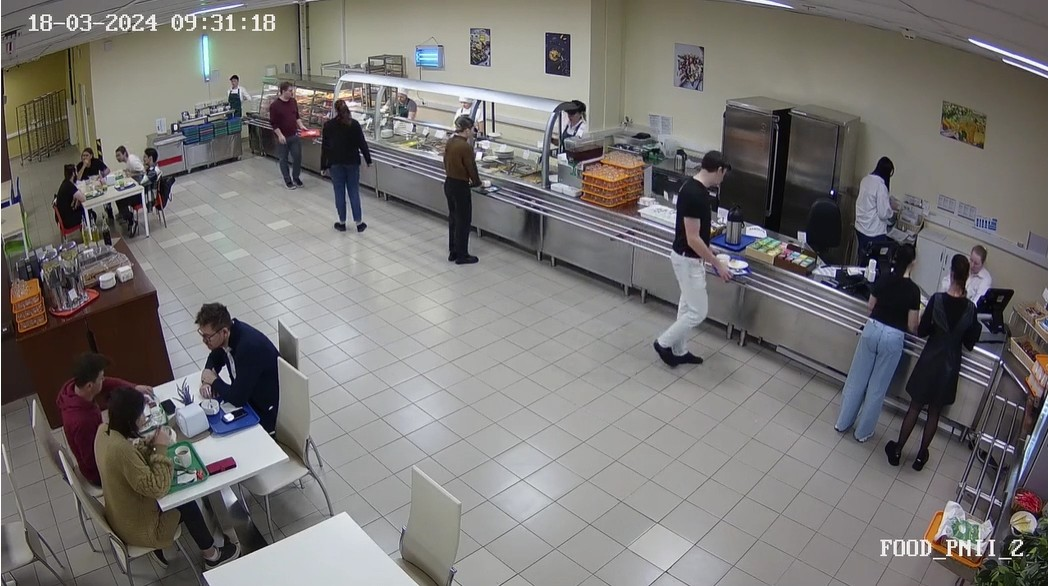Na_Kasse: (830, 253, 1004, 481), (773, 240, 943, 450)
Personal: (850, 152, 892, 269), (550, 86, 593, 162), (216, 74, 255, 136), (966, 237, 993, 304), (390, 82, 421, 129), (454, 88, 480, 113)
Vybiraet: (657, 129, 734, 377), (437, 110, 493, 276), (325, 93, 377, 244), (268, 74, 310, 185)
Za_Stolom: (178, 293, 296, 452), (96, 390, 179, 556), (40, 351, 135, 495), (40, 158, 87, 242), (135, 144, 169, 218), (110, 130, 144, 194), (74, 136, 108, 185)
